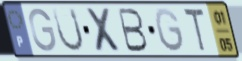B: (116, 7, 150, 54)
G: (153, 6, 187, 55), (28, 7, 59, 54)
T: (181, 6, 208, 54)
U: (50, 6, 86, 54)
X: (83, 6, 125, 54)
